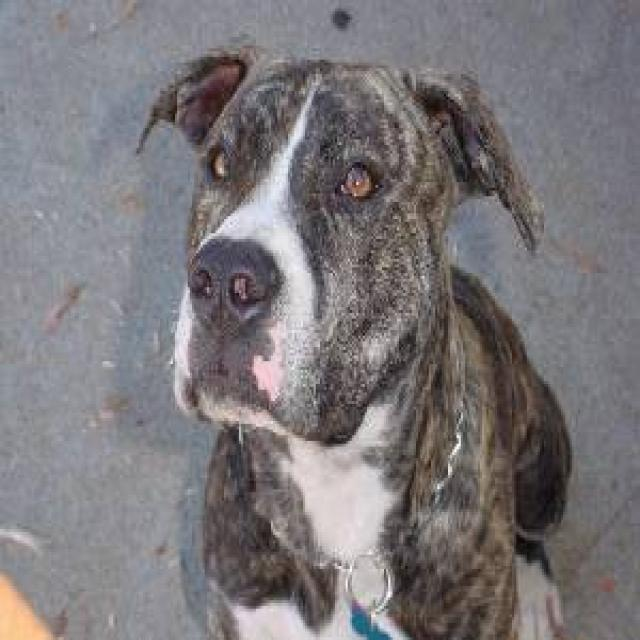dog-american_pit_bull_terrier: (130, 34, 585, 634)
